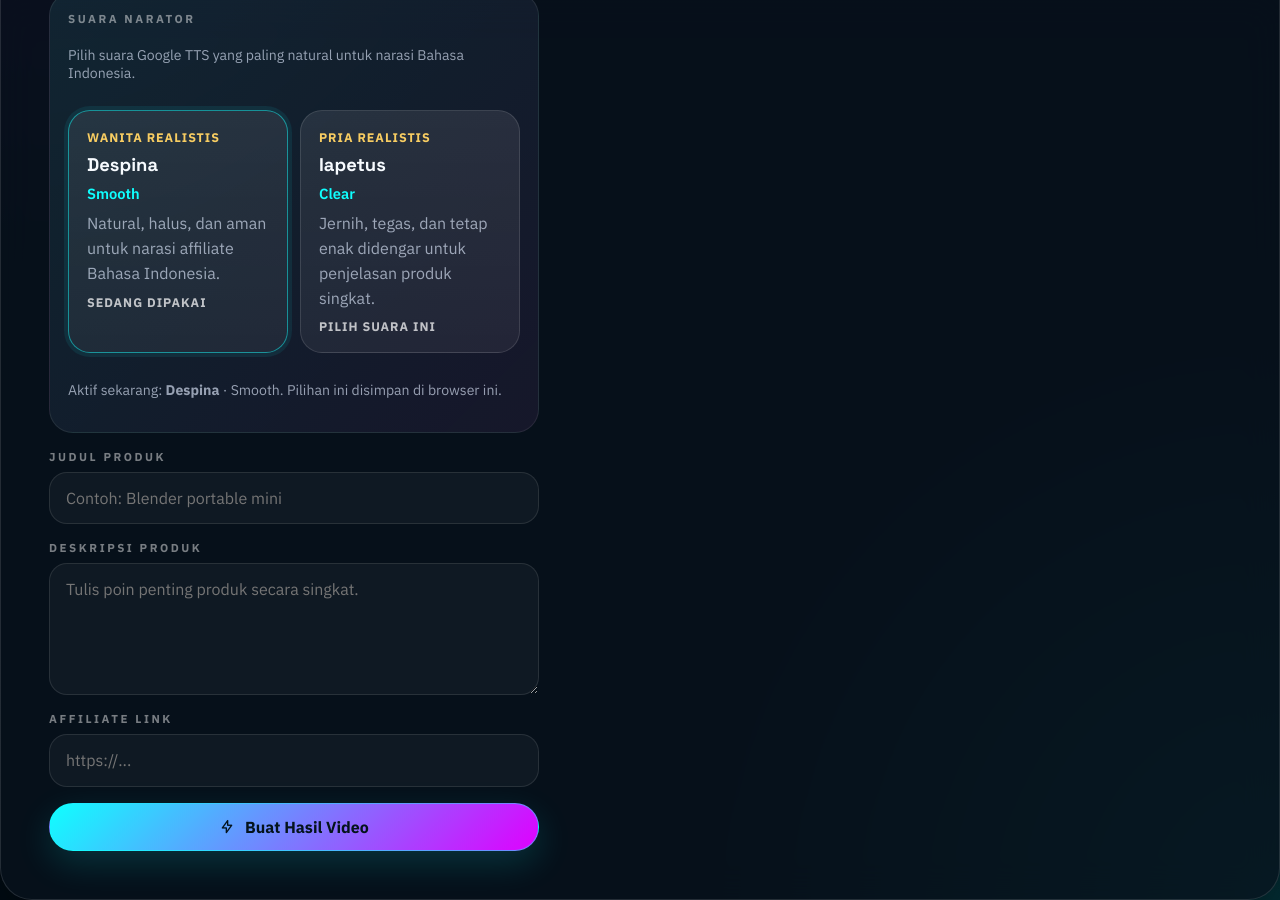
web smoke › shows generate form validation before submit
(page scrolled)
Click the button "Buat Hasil Video" at (294, 827), box x1=49 y1=803 x2=539 y2=851
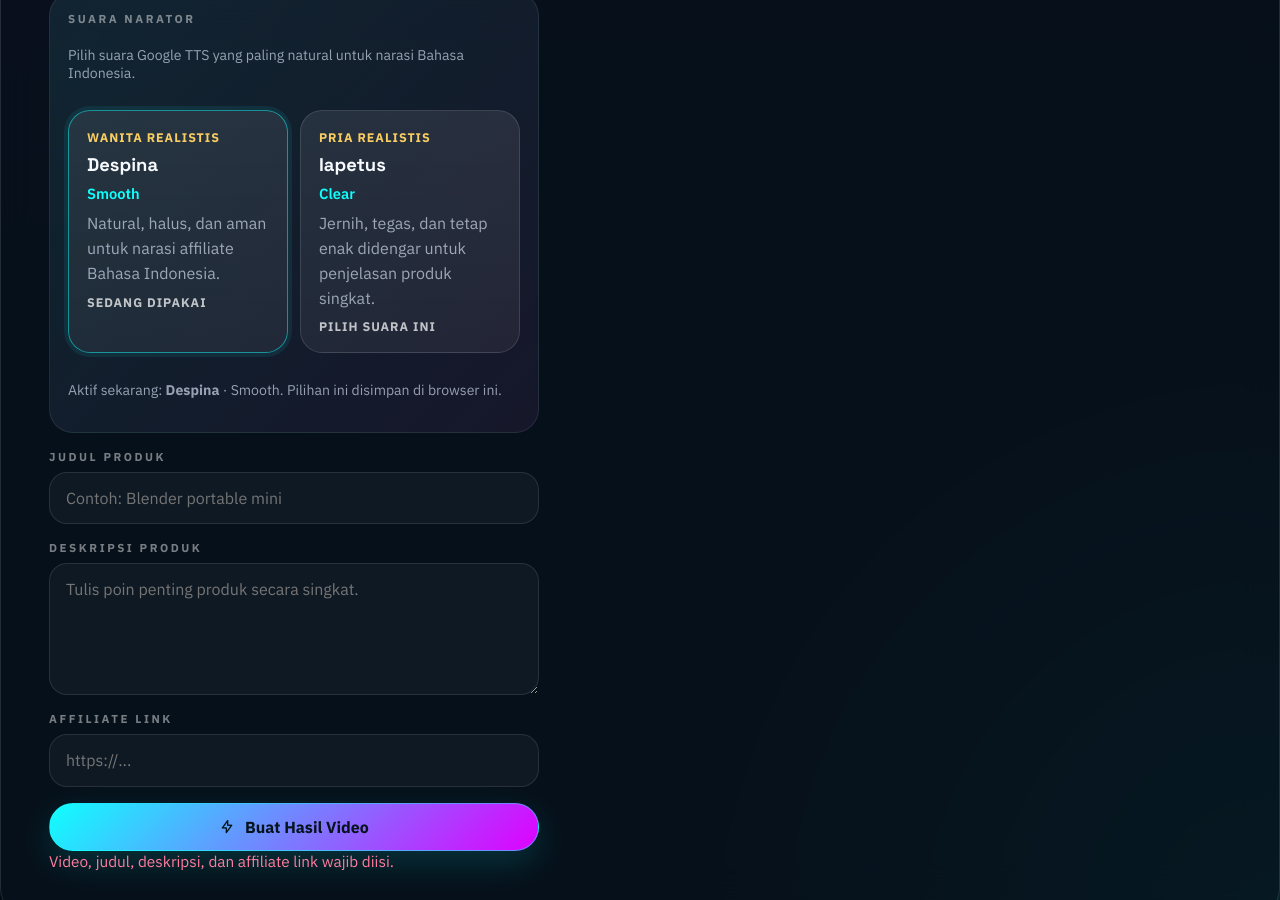
Expected: the text "Video, judul, deskripsi, dan affiliate link wajib diisi." is shown, x1=49 y1=851 x2=394 y2=871
